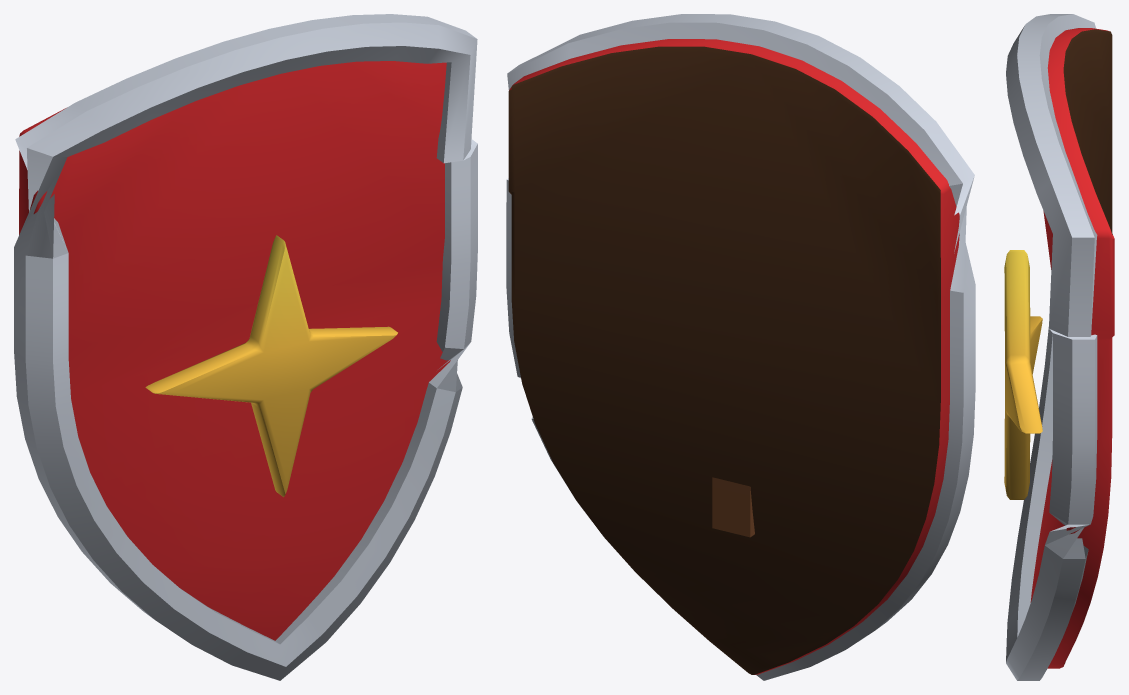
The model's file is Weapon_EnemyShield.fbx.
3 views of the same model, side by side, from view 1: azimuth 30°, elevation 25°; view 2: azimuth 150°, elevation 25°; view 3: azimuth 270°, elevation 25° (orthographic). The views are drawn at different scales.
Parts seen in each view (by area): view 1: SoldierShield; view 2: SoldierShield; view 3: SoldierShield.
Part boxes in pixels (bbox=[...]): SoldierShield: bbox=[14, 14, 477, 680]; SoldierShield: bbox=[506, 14, 975, 680]; SoldierShield: bbox=[1004, 14, 1114, 680].
Bounding box in the file's own units: 0.3597 × 0.4891 × 0.078.
